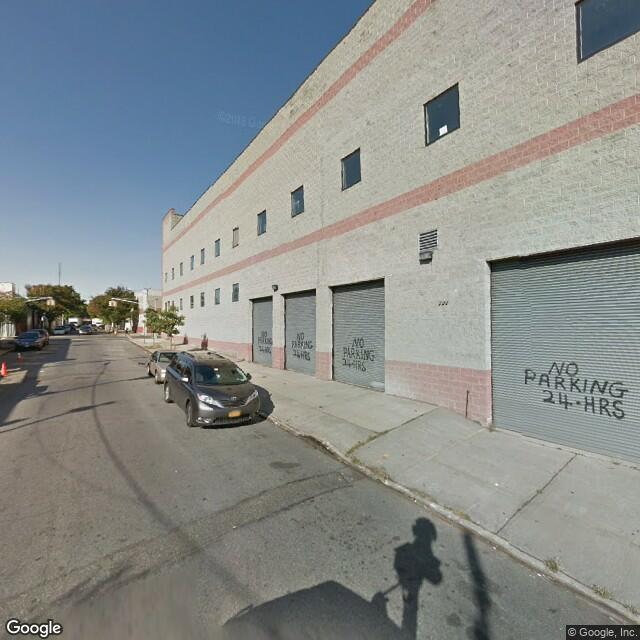litter: (533, 571, 547, 579), (494, 481, 503, 486), (271, 422, 280, 427), (490, 546, 498, 551)
